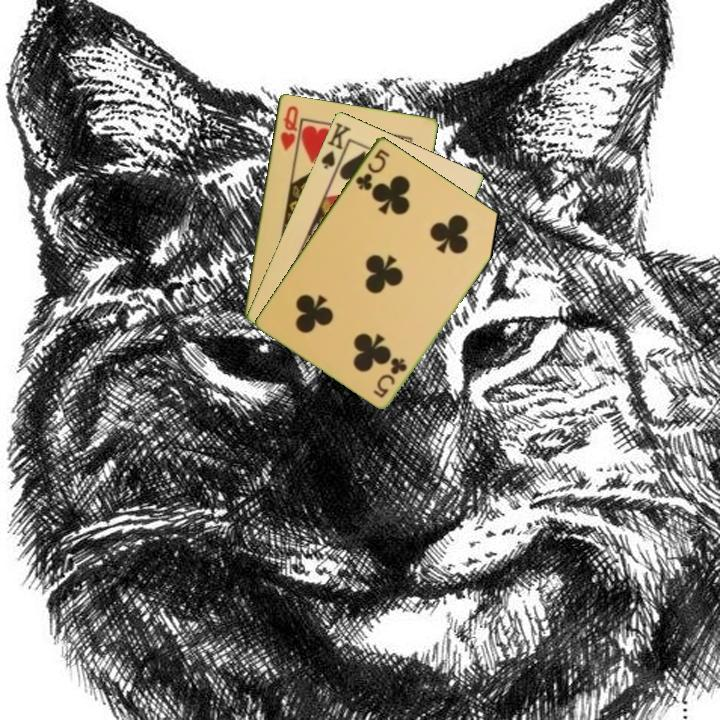5c: (352, 144, 392, 193), (370, 354, 410, 401)
Ks: (317, 119, 354, 176)
Qh: (276, 102, 301, 153)
